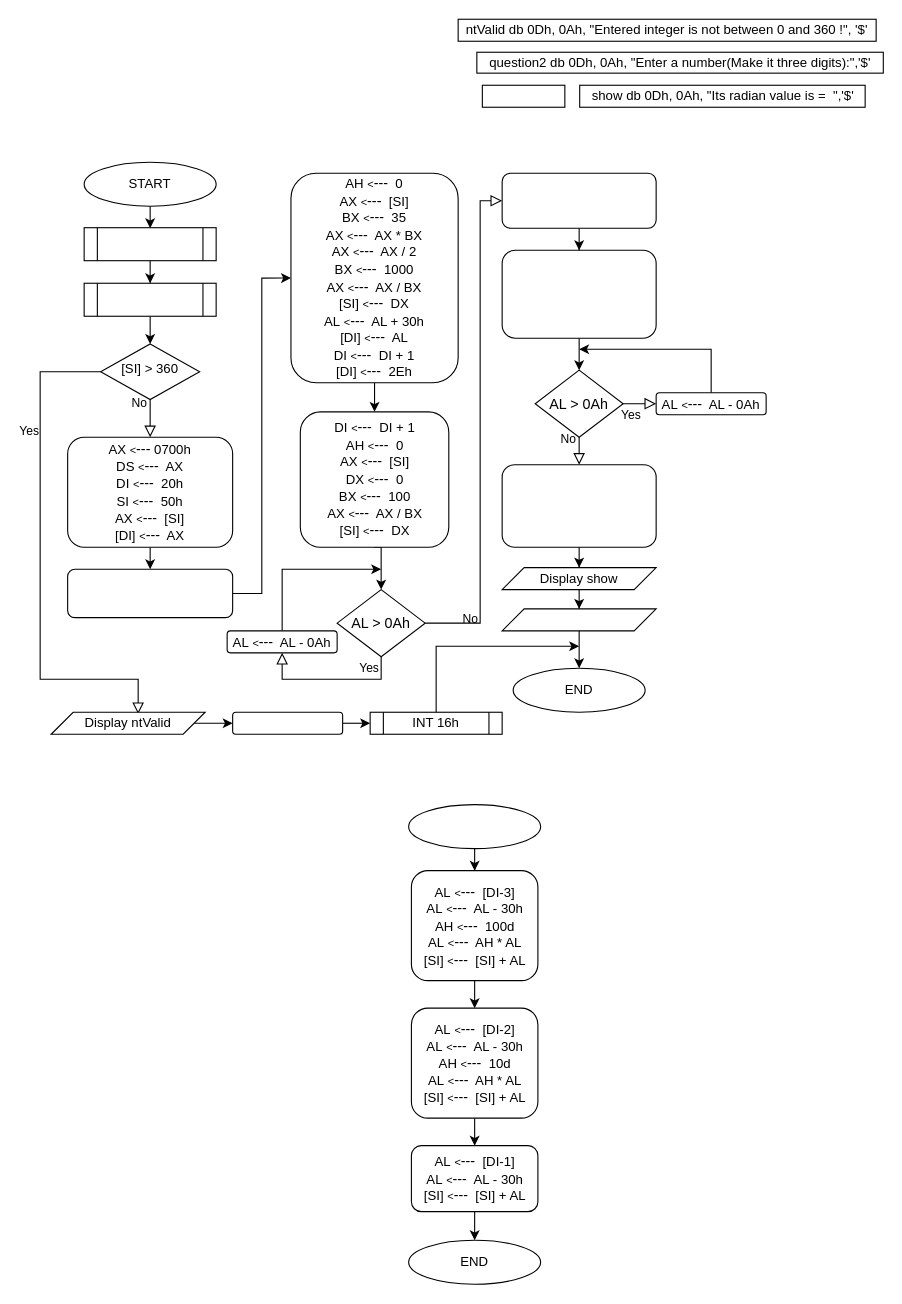
Some shapes in this 902 by 1304 pixel diagram are drawn without their labels. Each missing label, with the box of its shape:
AH < --- 0 AX < --- [SI] DX < --- 0 BX < --- 10 AX < --- AX / BX: (501, 249, 656, 338)
AH < --- 00: (232, 711, 343, 734)
AL < --- AL + 30h [DI] < --- AL DI < --- DI + 1: (501, 172, 656, 228)
AL < --- AL + 30h [DI] < --- AL DI < --- DI + 1 [DI] < --- 24h: (501, 464, 656, 547)
CALL combine: (83, 282, 216, 316)
CALL inputTaker: (83, 227, 216, 261)
combine: (408, 804, 541, 849)
DI < --- OFFSET result SI < --- 50h: (67, 568, 233, 618)
Display result: (501, 608, 656, 631)
result db "": (481, 84, 565, 107)
